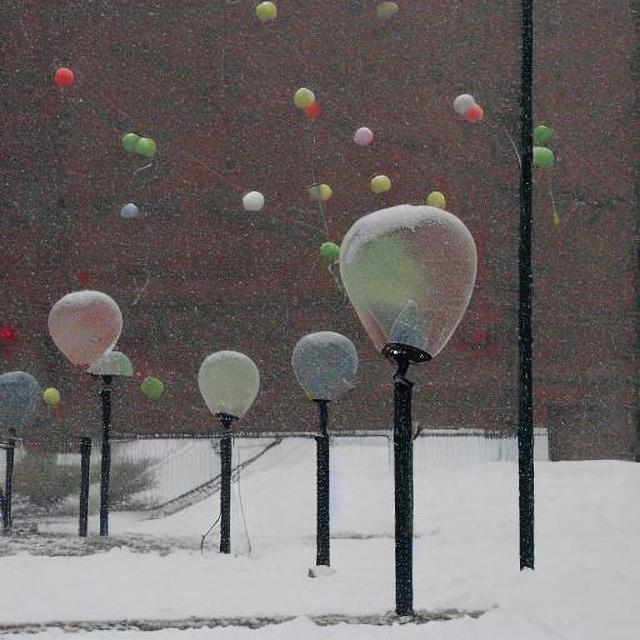balloon: (520, 119, 558, 172), (123, 128, 158, 160), (451, 92, 484, 123), (290, 86, 320, 118), (50, 63, 82, 92), (240, 188, 264, 212), (253, 0, 277, 21), (368, 175, 392, 196), (352, 126, 374, 148), (118, 202, 143, 220), (322, 242, 340, 264), (310, 184, 328, 204), (430, 190, 448, 205)
